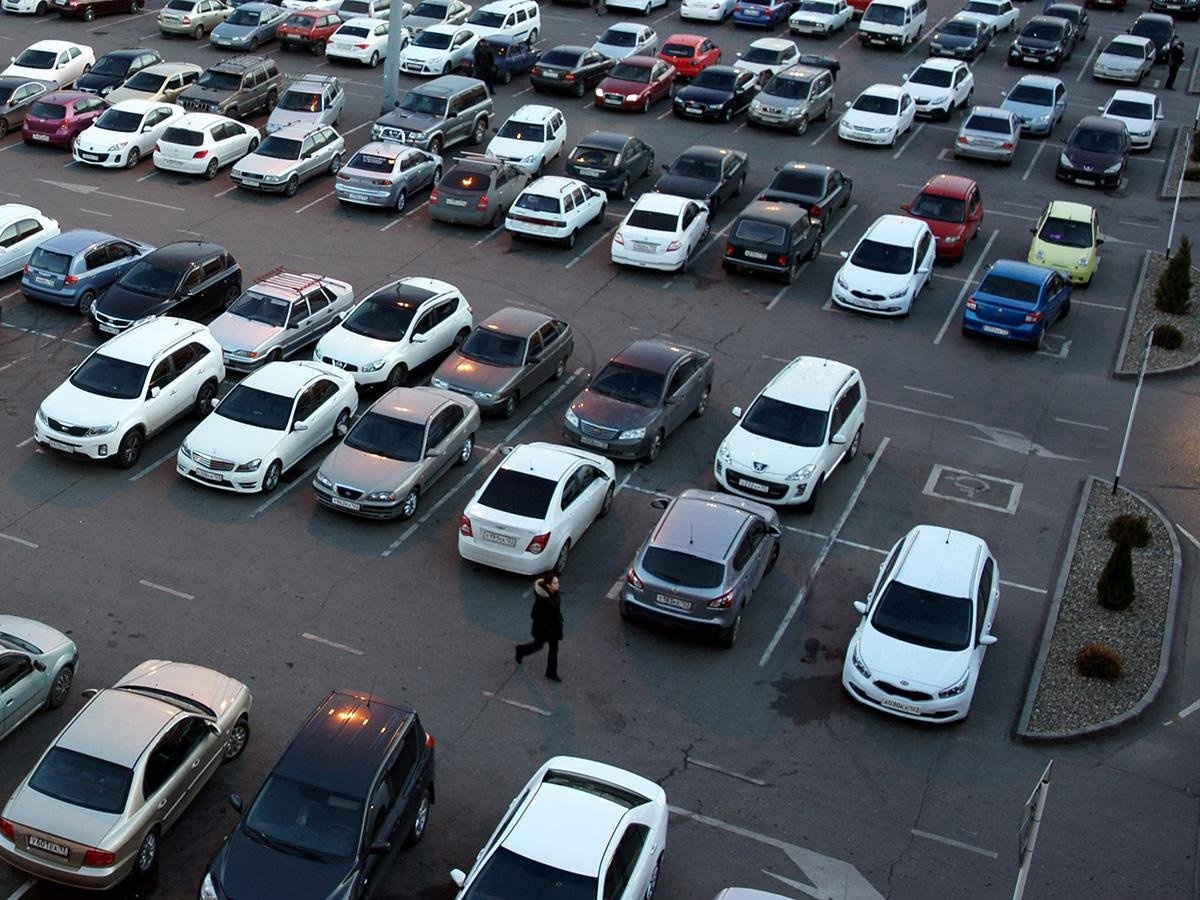Car: (0, 658, 252, 892), (198, 690, 436, 900), (840, 524, 1001, 725), (448, 756, 670, 900), (33, 316, 226, 468), (618, 488, 783, 648), (175, 360, 359, 495), (713, 355, 867, 512), (312, 386, 480, 520), (457, 442, 617, 577), (560, 337, 716, 463), (312, 276, 474, 389), (430, 307, 574, 418), (209, 267, 358, 374), (88, 240, 244, 337), (21, 229, 157, 315), (830, 214, 936, 317), (960, 257, 1072, 349), (370, 74, 495, 155), (0, 614, 79, 742), (230, 122, 347, 197), (721, 200, 823, 283), (611, 192, 711, 274), (72, 98, 186, 169), (333, 141, 445, 213), (429, 150, 532, 228), (747, 53, 842, 136), (899, 173, 984, 264), (504, 175, 608, 248), (152, 112, 262, 179), (649, 145, 750, 217), (176, 54, 286, 120), (753, 159, 853, 229), (1028, 200, 1105, 286), (565, 130, 656, 199), (485, 104, 567, 175), (21, 90, 113, 152), (1055, 116, 1131, 190), (837, 83, 917, 149), (672, 64, 761, 123), (265, 73, 345, 135), (209, 1, 304, 53), (0, 202, 62, 281), (594, 55, 677, 113), (72, 47, 166, 98), (901, 57, 975, 121), (0, 40, 96, 88), (528, 44, 614, 97), (399, 23, 481, 77), (325, 16, 411, 67), (1097, 89, 1165, 153), (1000, 74, 1068, 138), (456, 34, 543, 84), (953, 105, 1024, 165), (104, 62, 205, 103), (0, 74, 61, 138), (1008, 14, 1074, 73), (857, 0, 928, 52), (460, 0, 541, 45), (1093, 34, 1156, 86), (655, 33, 723, 80), (276, 10, 345, 56), (157, 0, 236, 40), (929, 17, 993, 62), (592, 22, 659, 64), (400, 0, 473, 38), (1125, 13, 1179, 64), (789, 0, 855, 40), (732, 37, 802, 74), (953, 0, 1021, 38), (1043, 3, 1090, 49), (50, 0, 146, 21), (734, 0, 794, 30), (337, 0, 415, 23), (679, 0, 740, 24), (713, 887, 795, 900), (605, 0, 670, 16), (1151, 0, 1200, 19), (2, 0, 55, 17), (280, 0, 344, 12), (1085, 0, 1128, 11), (846, 0, 873, 16), (552, 0, 602, 7), (789, 0, 803, 13), (1012, 0, 1034, 3)
